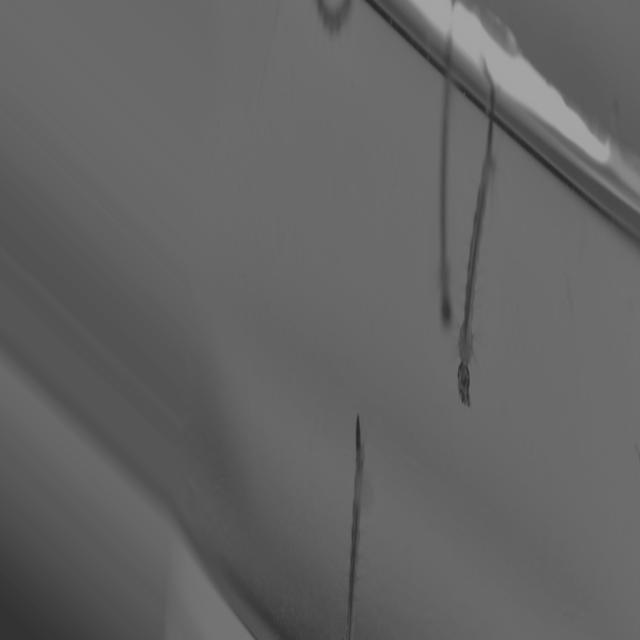larvas: (458, 78, 493, 407), (432, 34, 456, 320), (346, 419, 364, 638), (314, 0, 349, 37)
